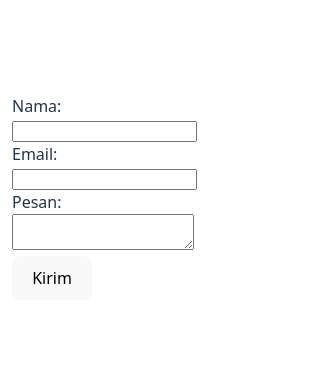
Test case: FeedbackForm › menampilkan error saat field kosong
Click the button with test id "submit-button" at (52, 278), box [12, 256, 92, 300]
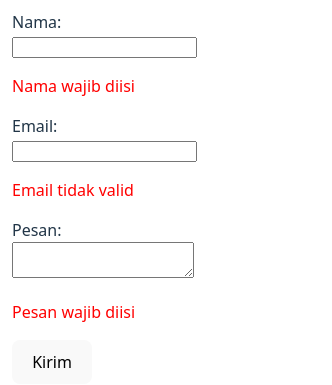
Check: the text "Nama wajib diisi" is shown, box [12, 75, 135, 97]
Check: the text "Email tidak valid" is shown, box [12, 179, 134, 201]
Check: the text "Pesan wajib diisi" is shown, box [12, 301, 135, 323]
